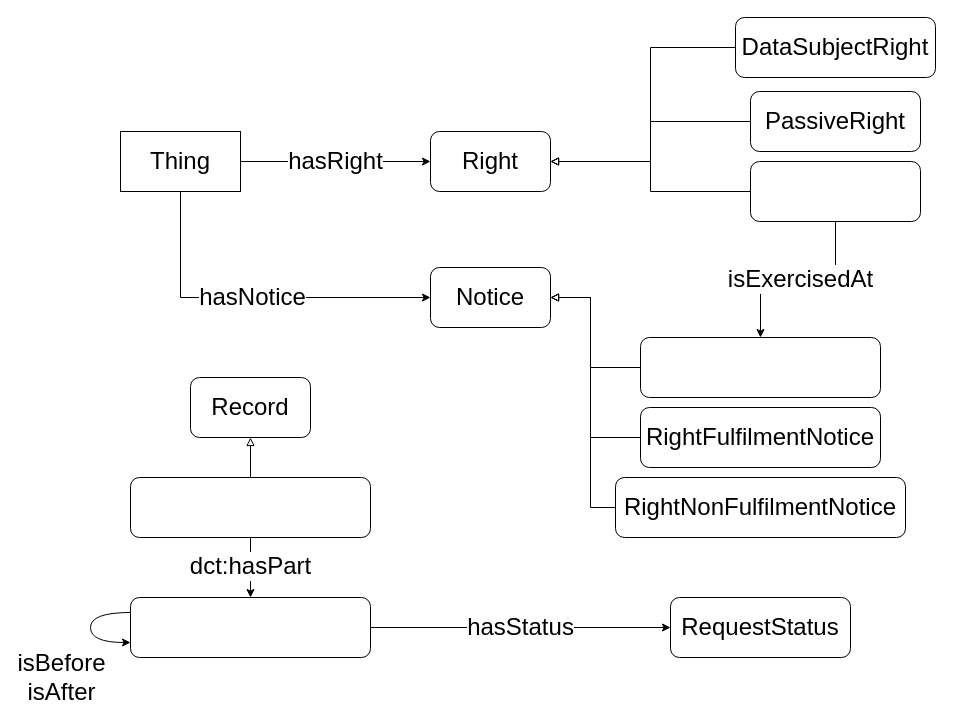
This 953x724 diagram has some shape labels left out. Here are the shapes that lost their labels. From the top down, the centre of each, then its label:
At pixel 835 191: "ActiveRight".
At pixel 760 367: "RightExerciseNotice".
At pixel 250 507: "RightExerciseRecord".
At pixel 250 627: "RightExerciseActivity".
